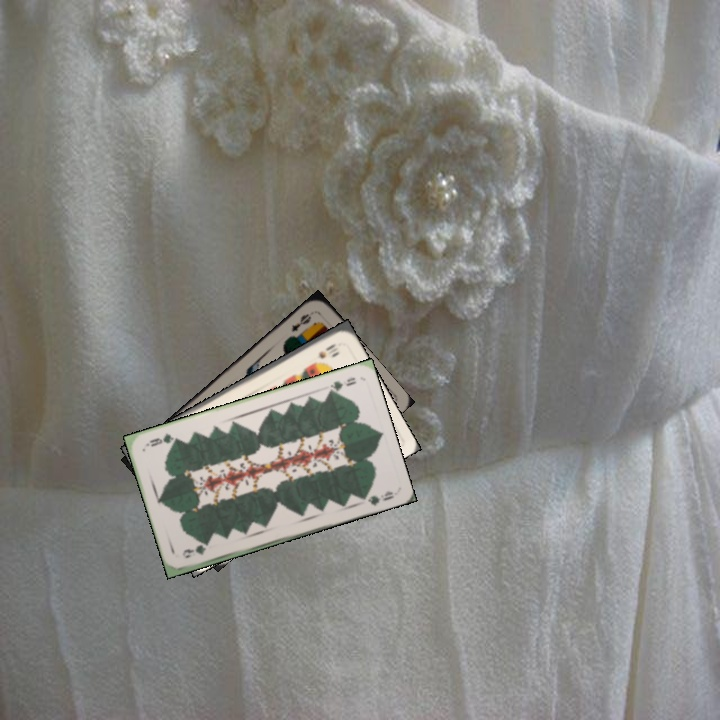EO: (287, 309, 314, 335)
G9: (323, 373, 359, 396), (178, 542, 208, 561)
S10: (313, 339, 341, 361)
